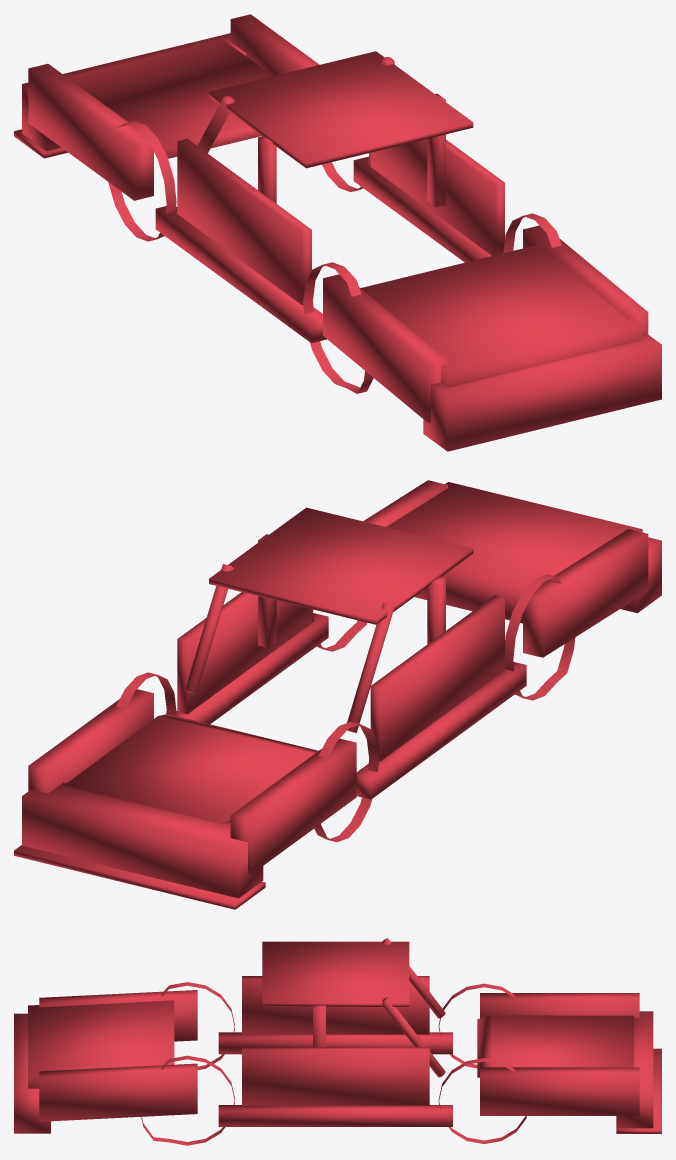
The model's file is body_coupe.glb.
3 renders of one model, top to bottom at view 1: azimuth 30°, elevation 25°; view 2: azimuth 150°, elevation 25°; view 3: azimuth 270°, elevation 25°, orthographic. The views are drawn at different scales.
Visible parts, largest first — view 1: BODY_RearClip, BODY_Cabin, BODY_FrontClip; view 2: BODY_FrontClip, BODY_Cabin, BODY_RearClip; view 3: BODY_Cabin, BODY_RearClip, BODY_FrontClip.
Part boxes in pixels (x1,y1,x2,y2): BODY_RearClip: [303, 213, 661, 451]; BODY_Cabin: [155, 51, 504, 342]; BODY_FrontClip: [14, 14, 370, 241]; BODY_FrontClip: [14, 672, 378, 909]; BODY_Cabin: [176, 507, 526, 799]; BODY_RearClip: [312, 480, 661, 700]; BODY_Cabin: [218, 938, 452, 1126]; BODY_RearClip: [14, 982, 234, 1145]; BODY_FrontClip: [438, 983, 661, 1143].
Bounding box in the file's own units: 1.79 × 1.41 × 5.98.
